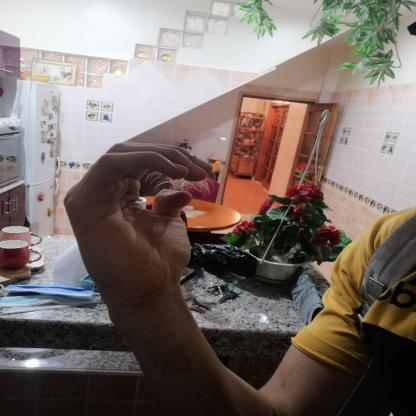JEEM: (49, 129, 230, 313)
